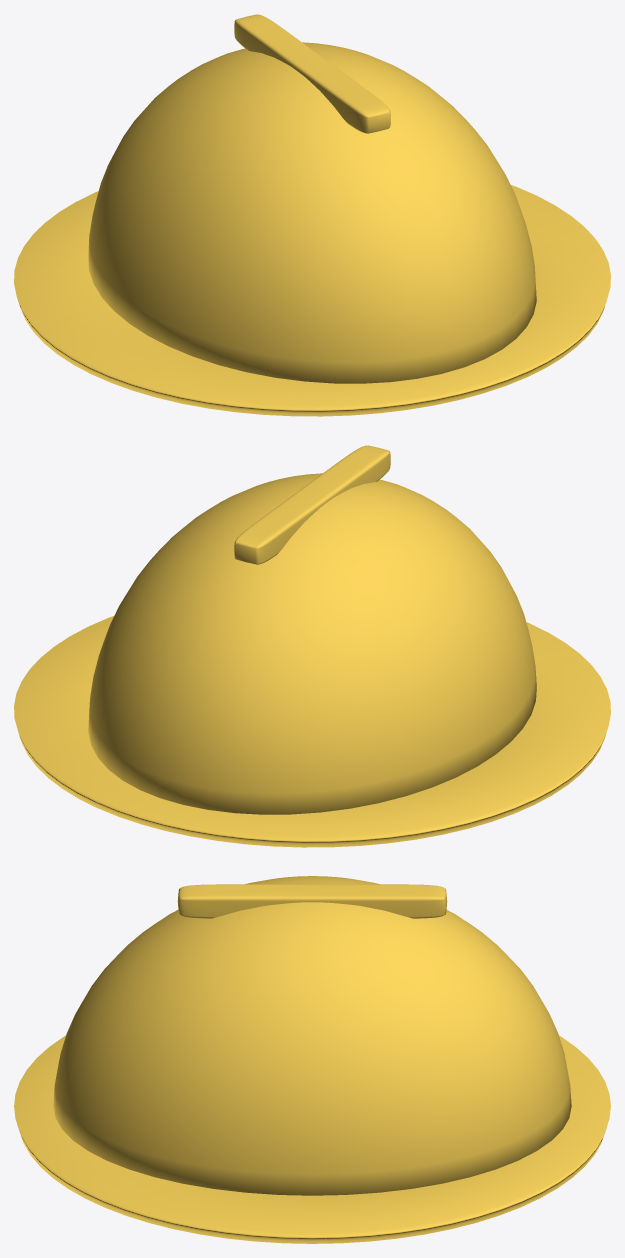
Rendered from safety_helmet.glb.
3 renders of one model, top to bottom at view 1: azimuth 30°, elevation 25°; view 2: azimuth 150°, elevation 25°; view 3: azimuth 270°, elevation 25°, orthographic.
Parts seen in each view (by area): view 1: Helmet_Hollow_Shell, Helmet_Brim, Crown_Ridge; view 2: Helmet_Hollow_Shell, Helmet_Brim, Crown_Ridge; view 3: Helmet_Hollow_Shell, Helmet_Brim, Crown_Ridge.
Boxes of the visible parts, <box> form: Helmet_Hollow_Shell: <box>88,42,536,383</box>; Helmet_Brim: <box>14,185,610,416</box>; Crown_Ridge: <box>234,14,390,133</box>; Helmet_Hollow_Shell: <box>88,473,536,814</box>; Helmet_Brim: <box>14,616,610,847</box>; Crown_Ridge: <box>234,445,390,564</box>; Helmet_Hollow_Shell: <box>53,876,571,1195</box>; Helmet_Brim: <box>14,1035,610,1243</box>; Crown_Ridge: <box>177,884,447,918</box>.
Size of the model in its own units: 0.288 by 0.122 by 0.288.
